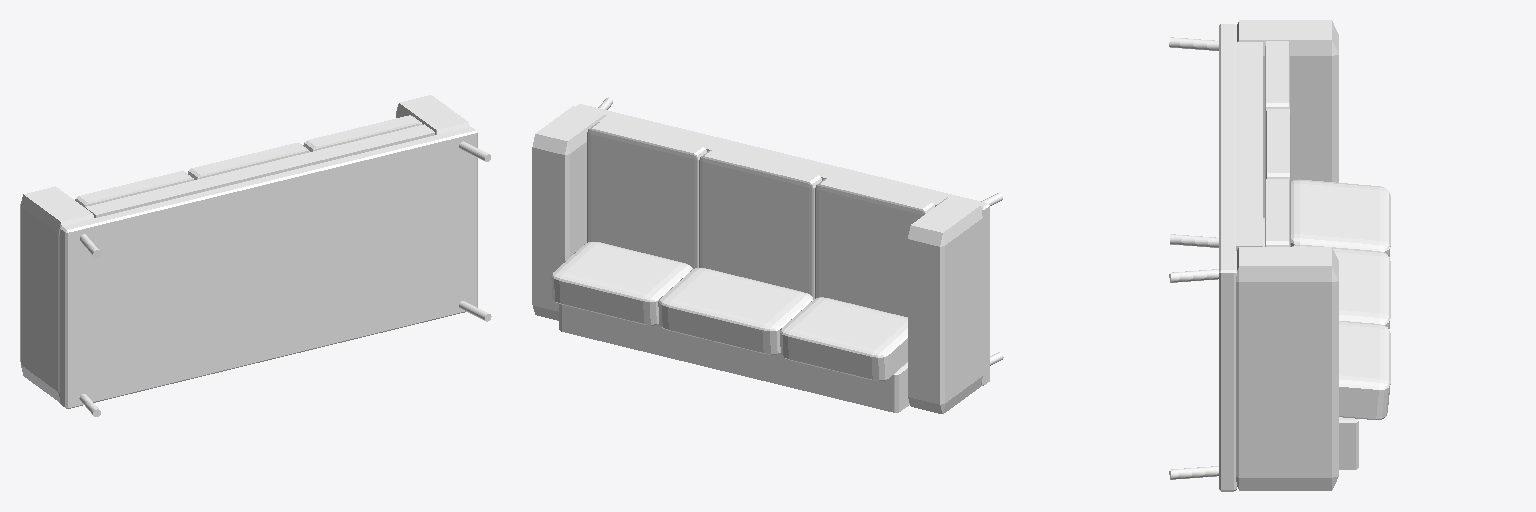
URDF robot description (sofa_color.urdf):
<?xml version="1.0" ?>
<robot name="sofa_color.urdf">
  <link name="baseLink">
    <inertial>
      <origin rpy="0 0 0" xyz="0 0 0"/>
       <mass value="0.0"/>
       <inertia ixx="0" ixy="0" ixz="0" iyy="0" iyz="0" izz="0"/>
    </inertial>
    <visual>
      <origin rpy="0 0 0" xyz="0 0 0"/>
      <geometry>
        <mesh filename="sofa_color.obj" scale="1.0 1.0 1.0"/>
      </geometry>
      <material name="white">
       <color rgba="1 1 1 1"/>
     </material>
    </visual>
    <collision concave="yes">
      <origin rpy="0 0 0" xyz="0 0 0"/>
      <geometry>
        <mesh filename="sofa_color.obj" scale="1.0 1.0 1.0"/>
        <!-- You could also specify the collision (for the sofa_color) with a "box" tag: -->
        <!-- <box size=".06 .06 .06"/> -->
      </geometry>
    </collision>
  </link>
</robot>
        

--- Render facts (derived) ---
Views: 3 orthographic renders of the robot side by side, from view 1: azimuth 30°, elevation 25°; view 2: azimuth 150°, elevation 25°; view 3: azimuth 270°, elevation 25°.
Model sofa_color.urdf with 1 links and 0 joints (none), rooted at baseLink, posed every joint at zero.
Links seen in each view (by area): view 1: baseLink; view 2: baseLink; view 3: baseLink.
Link boxes in pixels (x1,y1,x2,y2): baseLink: [20, 95, 491, 416]; baseLink: [532, 97, 1003, 413]; baseLink: [1169, 20, 1390, 491].
Size in the robot's own frame: 2 by 0.7519 by 0.8519 metres.
1 mesh visuals loaded from 1 distinct referenced files (1 OBJ).
